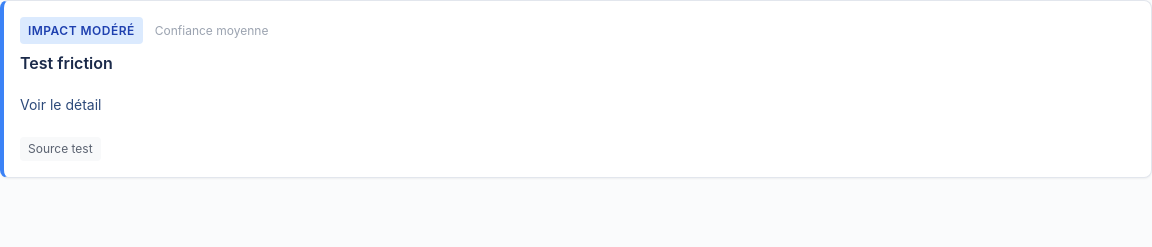
Test: FrictionCard › expands to show explanation on click
Expected: the text "Explication détaillée de la friction." is not shown
Click the button "Voir le détail" at (61,105), box [20,83,102,127]
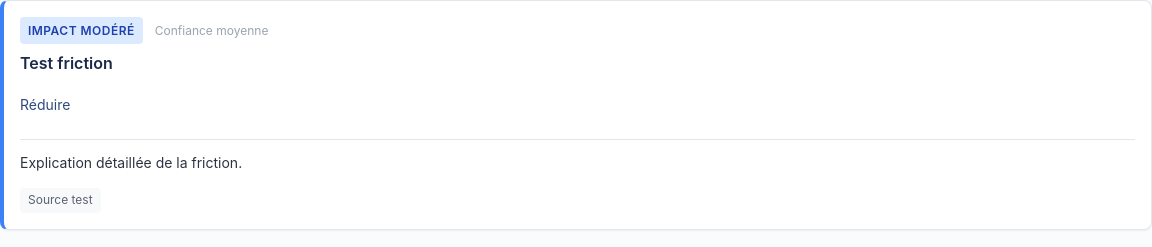
Now the text "Explication détaillée de la friction." is shown, box [20,154,242,171]
